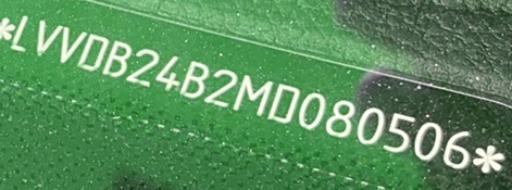letter: (232, 73, 274, 117), (380, 108, 416, 153), (440, 128, 474, 173), (203, 67, 239, 107), (267, 82, 301, 124), (76, 32, 110, 73), (125, 48, 159, 89), (412, 118, 444, 161), (324, 97, 356, 139), (355, 104, 387, 145), (58, 24, 88, 65), (101, 38, 131, 79), (296, 91, 328, 129), (178, 59, 210, 97), (36, 18, 62, 57), (154, 55, 180, 90), (8, 12, 30, 53)
